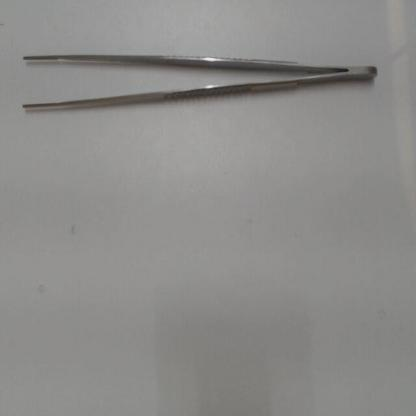DeBakey Dissector: (8, 36, 413, 125)
